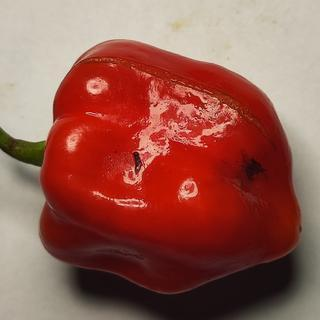Defect: (230, 147, 271, 187), (127, 145, 148, 179)
striped: (68, 50, 283, 156)
